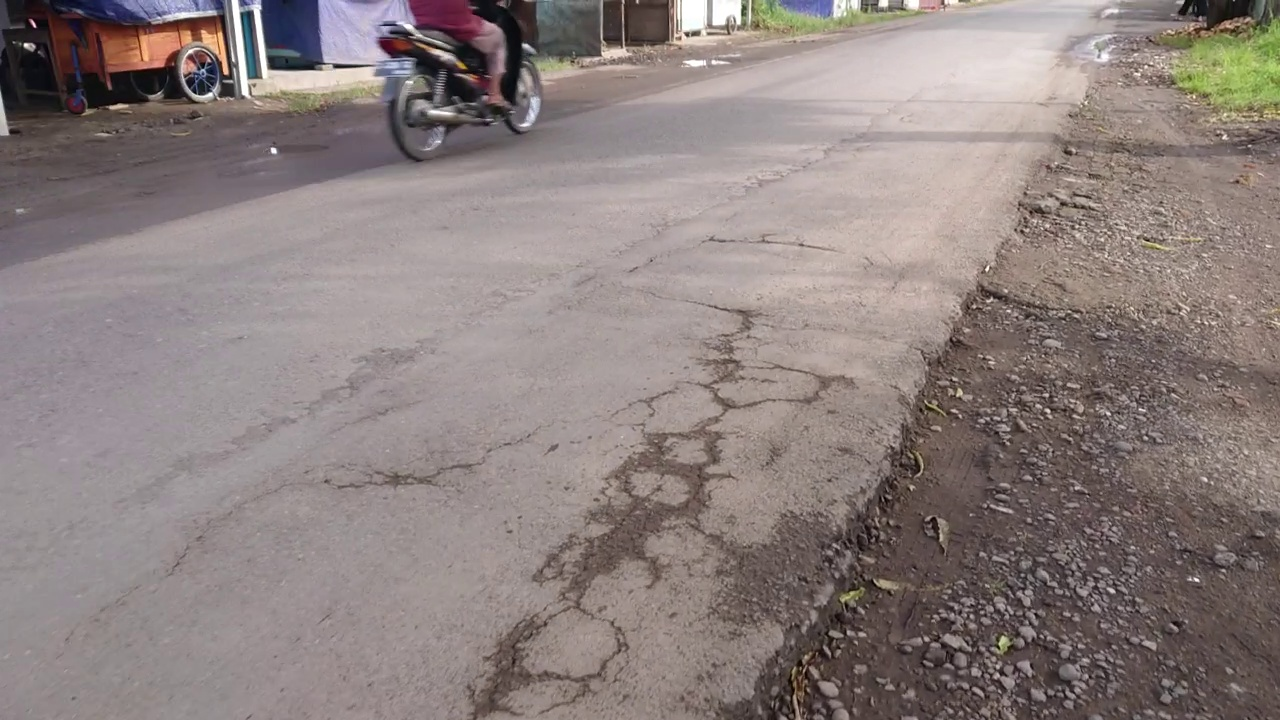Retak: (524, 313, 762, 652), (668, 213, 815, 262)
